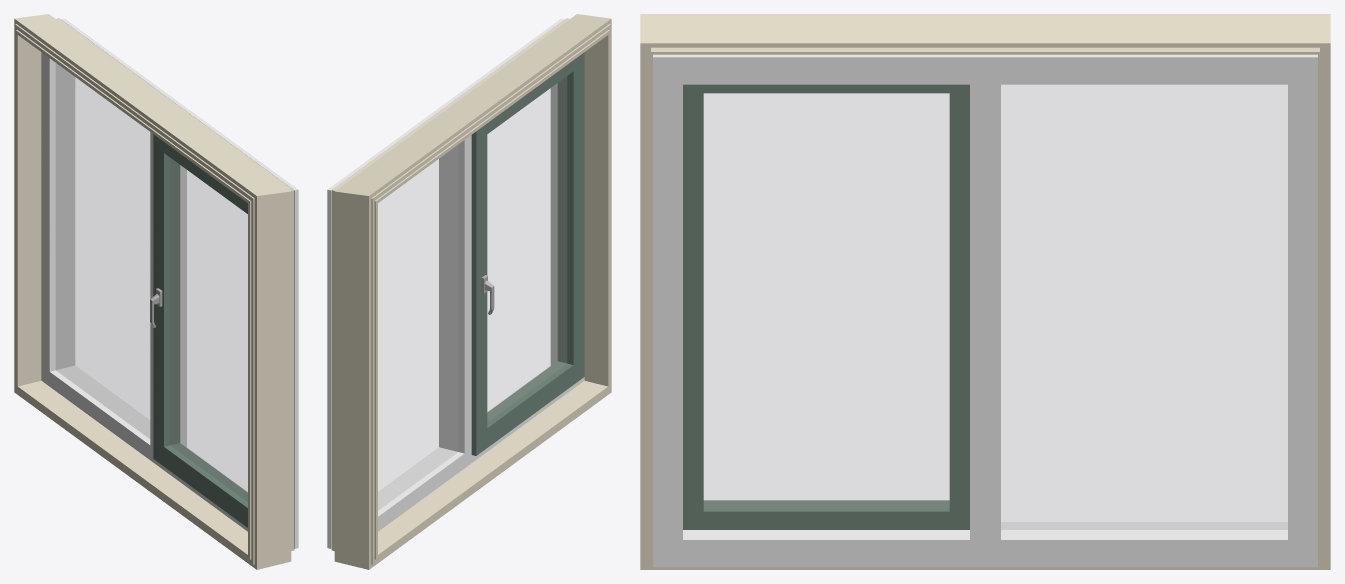
3 views of the same model, side by side, from view 1: azimuth 30°, elevation 25°; view 2: azimuth 150°, elevation 25°; view 3: azimuth 270°, elevation 25° (orthographic). The views are drawn at different scales.
Visible parts, largest first — view 1: [8433675]Merk B-001 2, [8433676]DEL_Merk B 2; view 2: [8433675]Merk B-001 2, [8433676]DEL_Merk B 2; view 3: [8433675]Merk B-001 2, [8433676]DEL_Merk B 2.
Boxes of the visible parts, x1,y1,x2,y2 form: [8433675]Merk B-001 2: (41,18,298,548); [8433676]DEL_Merk B 2: (14,14,294,569); [8433675]Merk B-001 2: (327,18,584,548); [8433676]DEL_Merk B 2: (331,14,611,569); [8433675]Merk B-001 2: (653,54,1317,567); [8433676]DEL_Merk B 2: (640,14,1330,569).
Size of the model in its own units: 0.212 by 1.55 by 1.82.
